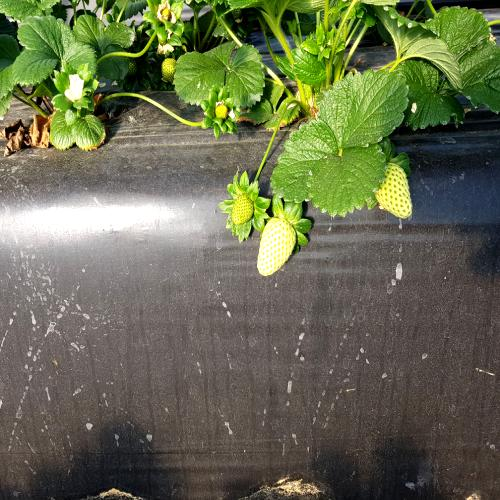unripe: (370, 152, 421, 232), (256, 214, 298, 279)
